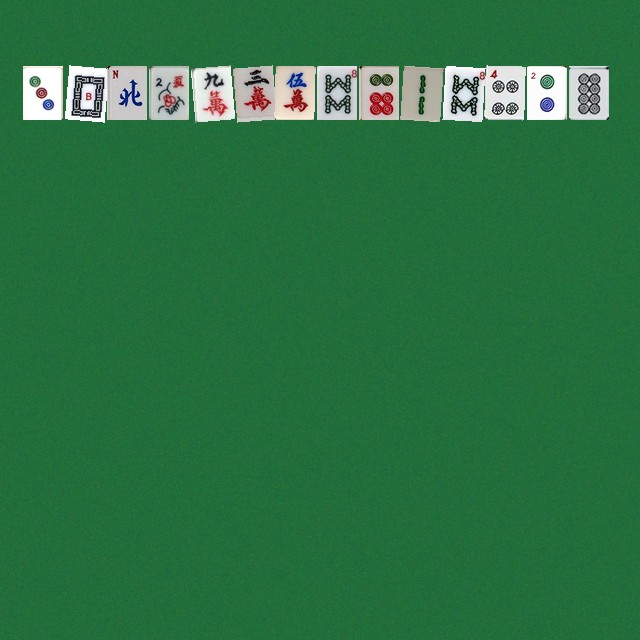tile: (22, 65, 62, 119), (64, 65, 104, 119), (106, 65, 146, 119), (148, 65, 188, 119), (190, 65, 230, 119), (232, 65, 272, 119), (274, 65, 314, 119), (316, 65, 356, 119), (358, 65, 398, 119), (400, 65, 440, 119), (442, 65, 482, 119), (484, 65, 524, 119), (526, 65, 566, 119), (568, 65, 608, 119)
